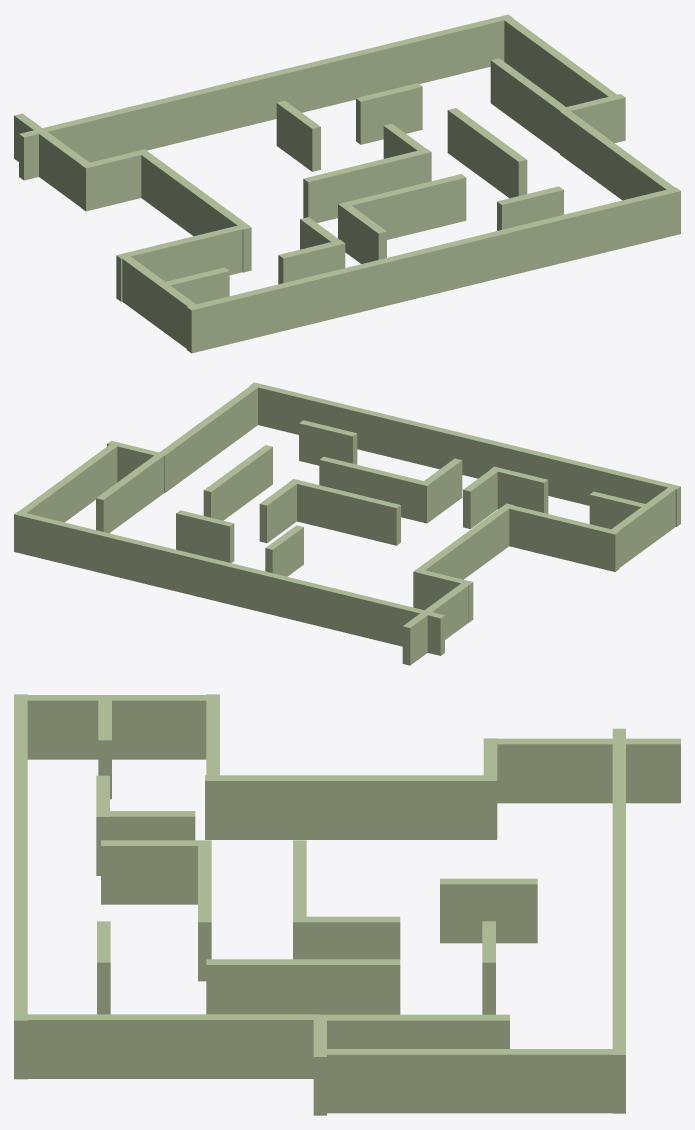
Rendered from level2W.obj.
The picture shows the model from 3 angles, top to bottom: view 1: azimuth 30°, elevation 25°; view 2: azimuth 150°, elevation 25°; view 3: azimuth 270°, elevation 25°; orthographic projection. The views are drawn at different scales.
Parts seen in each view (by area): view 1: Cube.062_Cube.085, Cube.085_Cube.103, Cube.115_Cube.148, Cube.028_Cube.040, Cube.011_Cube.023, Cube.066_Cube.086, Cube.074_Cube.092, Cube.086_Cube.104, Cube.117_Cube.150, Cube.079_Cube.097, Cube.073_Cube.091, Cube.080_Cube.098 (+37 smaller); view 2: Cube.055_Cube.070, Cube.004_Cube.014, Cube.028_Cube.040, Cube.115_Cube.148, Cube.117_Cube.150, Cube.118_Cube.151, Cube.113_Cube.146, Cube.119_Cube.152, Cube.114_Cube.147, Cube.080_Cube.098, Cube.116_Cube.149, Cube.056_Cube.071 (+37 smaller); view 3: Cube.091_Cube.109, Cube.034_Cube.046, Cube.035_Cube.047, Cube.092_Cube.110, Cube.104_Cube.125, Cube.041_Cube.053, Cube.001_Cube.016, Cube.109_Cube.139, Cube.063_Cube.078, Cube.101_Cube.124, Cube.139_Cube.172, Cube.093_Cube.111 (+19 smaller).
Boxes of the visible parts, x1,y1,x2,y2 form: Cube.062_Cube.085: (186, 291, 253, 353); Cube.085_Cube.103: (554, 202, 619, 263); Cube.115_Cube.148: (203, 74, 269, 135); Cube.028_Cube.040: (356, 83, 422, 144); Cube.011_Cube.023: (400, 174, 466, 235); Cube.066_Cube.086: (249, 277, 314, 337); Cube.074_Cube.092: (370, 247, 436, 308); Cube.086_Cube.104: (614, 187, 680, 248); Cube.117_Cube.150: (325, 44, 391, 105); Cube.079_Cube.097: (431, 232, 497, 293); Cube.073_Cube.091: (309, 262, 375, 323); Cube.080_Cube.098: (493, 217, 558, 278); Cube.055_Cube.070: (561, 518, 619, 571); Cube.004_Cube.014: (343, 492, 400, 545); Cube.028_Cube.040: (176, 510, 234, 562); Cube.115_Cube.148: (226, 563, 284, 616); Cube.117_Cube.150: (120, 537, 177, 590); Cube.118_Cube.151: (67, 524, 124, 577); Cube.113_Cube.146: (333, 589, 391, 642); Cube.119_Cube.152: (14, 511, 71, 564); Cube.114_Cube.147: (280, 576, 336, 629); Cube.080_Cube.098: (356, 408, 413, 461); Cube.116_Cube.149: (174, 550, 230, 603); Cube.056_Cube.071: (509, 505, 564, 558); Cube.091_Cube.109: (124, 1014, 222, 1078); Cube.034_Cube.046: (302, 775, 400, 839); Cube.035_Cube.047: (205, 775, 302, 839); Cube.092_Cube.110: (27, 1014, 124, 1078); Cube.104_Cube.125: (421, 1049, 518, 1113); Cube.041_Cube.053: (399, 775, 496, 839); Cube.001_Cube.016: (101, 840, 198, 904); Cube.109_Cube.139: (516, 1049, 614, 1113); Cube.063_Cube.078: (112, 695, 209, 759); Cube.101_Cube.124: (324, 1049, 421, 1113); Cube.139_Cube.172: (440, 878, 537, 943); Cube.093_Cube.111: (221, 1014, 318, 1078).
Bounding box in the file's own units: 16.77 × 1.27 × 13.04.
